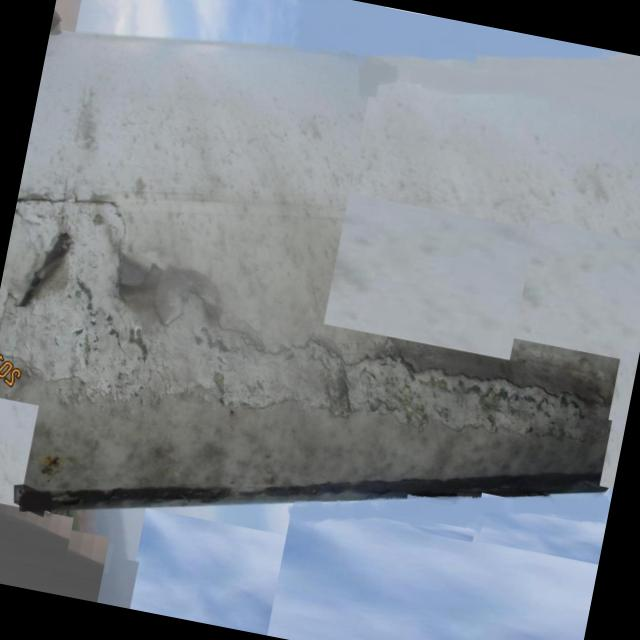corrosion: (158, 313, 610, 482)
surface_peeling: (0, 173, 186, 396)
